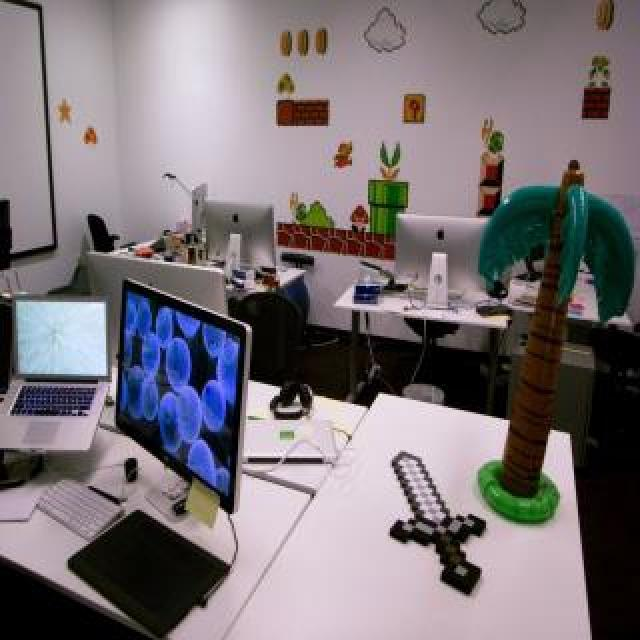laptop_computer: (115, 270, 268, 525), (5, 282, 108, 452), (201, 191, 295, 269)
